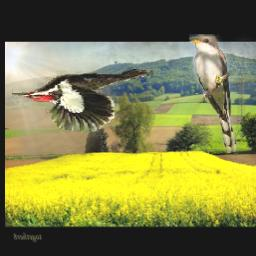Cuckoo: (189, 35, 239, 156)
Woodpecker: (10, 68, 152, 133)
